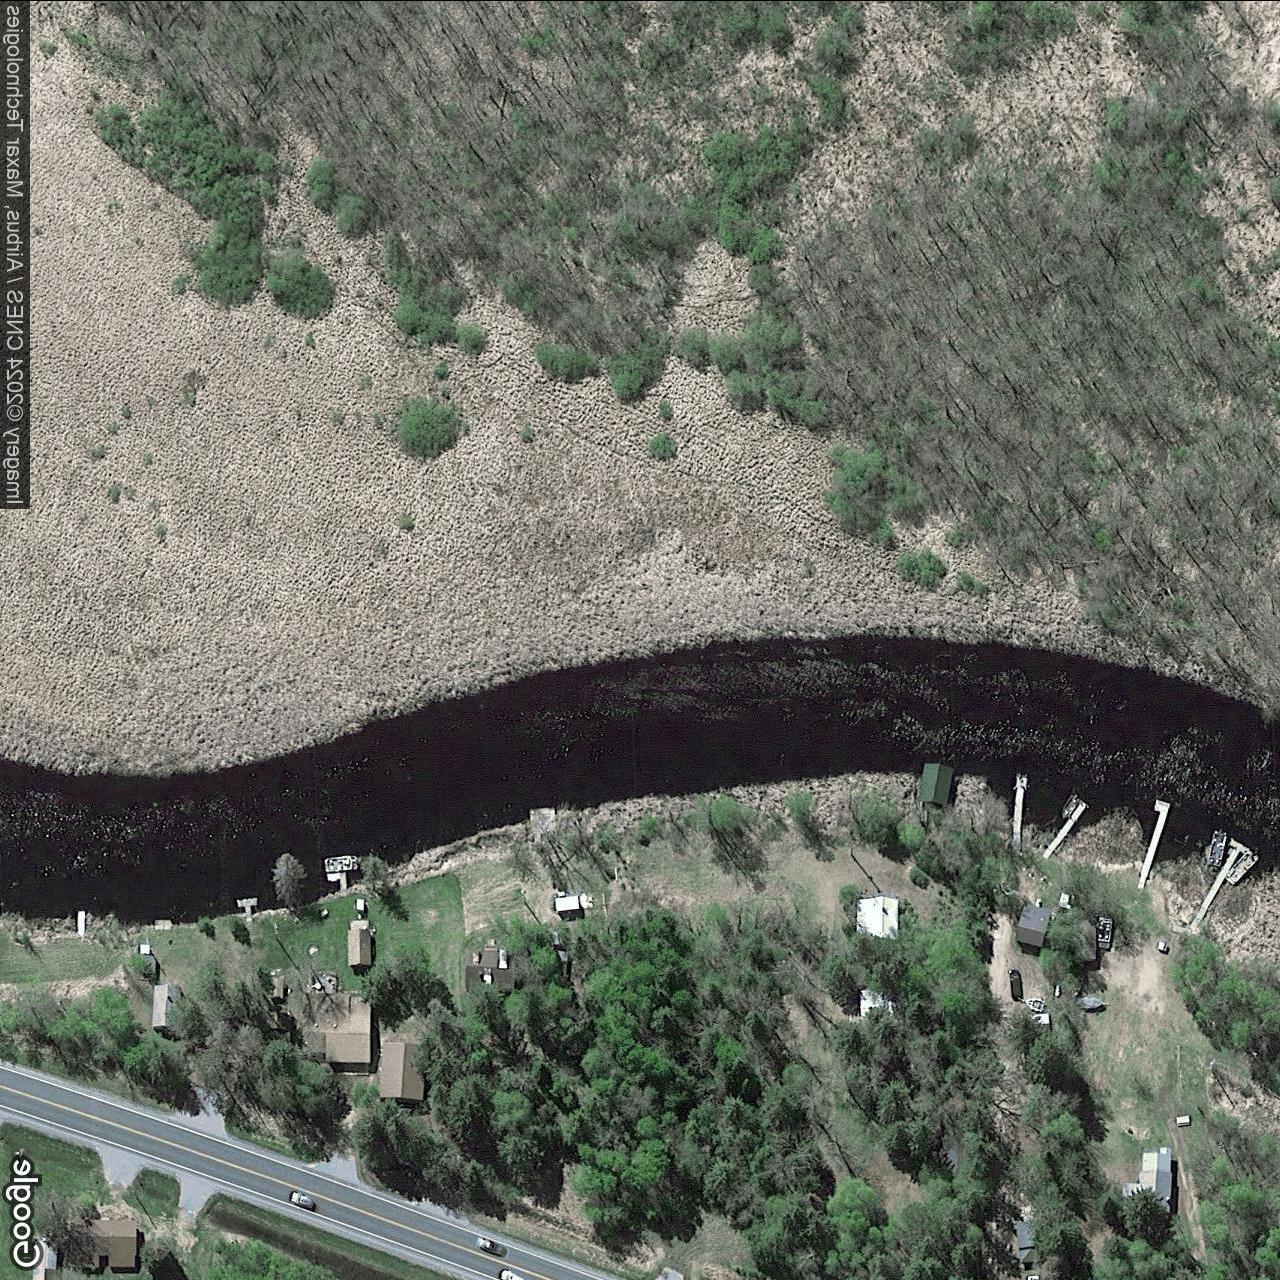Garage: (377, 1041, 427, 1102), (857, 898, 900, 940), (1016, 903, 1050, 948), (918, 763, 954, 805), (152, 983, 177, 1028), (347, 927, 373, 966)
House: (301, 992, 370, 1061), (1123, 1146, 1171, 1213), (81, 1218, 136, 1267), (465, 944, 515, 992), (1016, 1220, 1042, 1261), (32, 1239, 57, 1279)
Propane: (1026, 1273, 1041, 1280)
